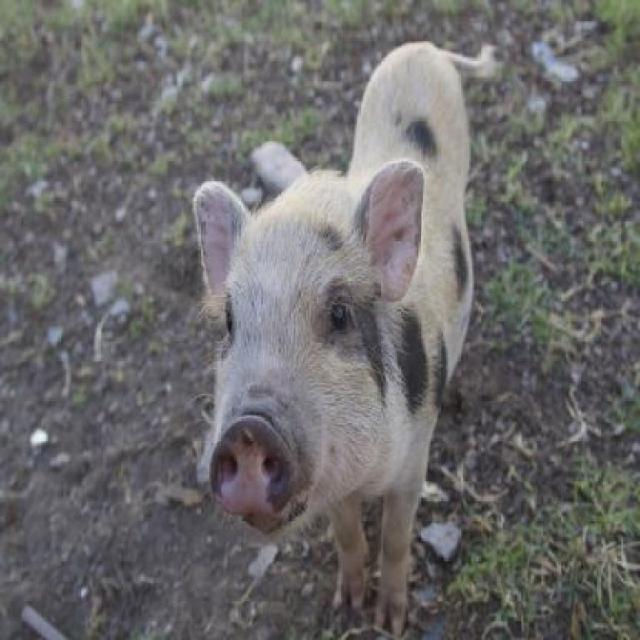pig: (194, 37, 505, 639), (191, 32, 498, 635)
